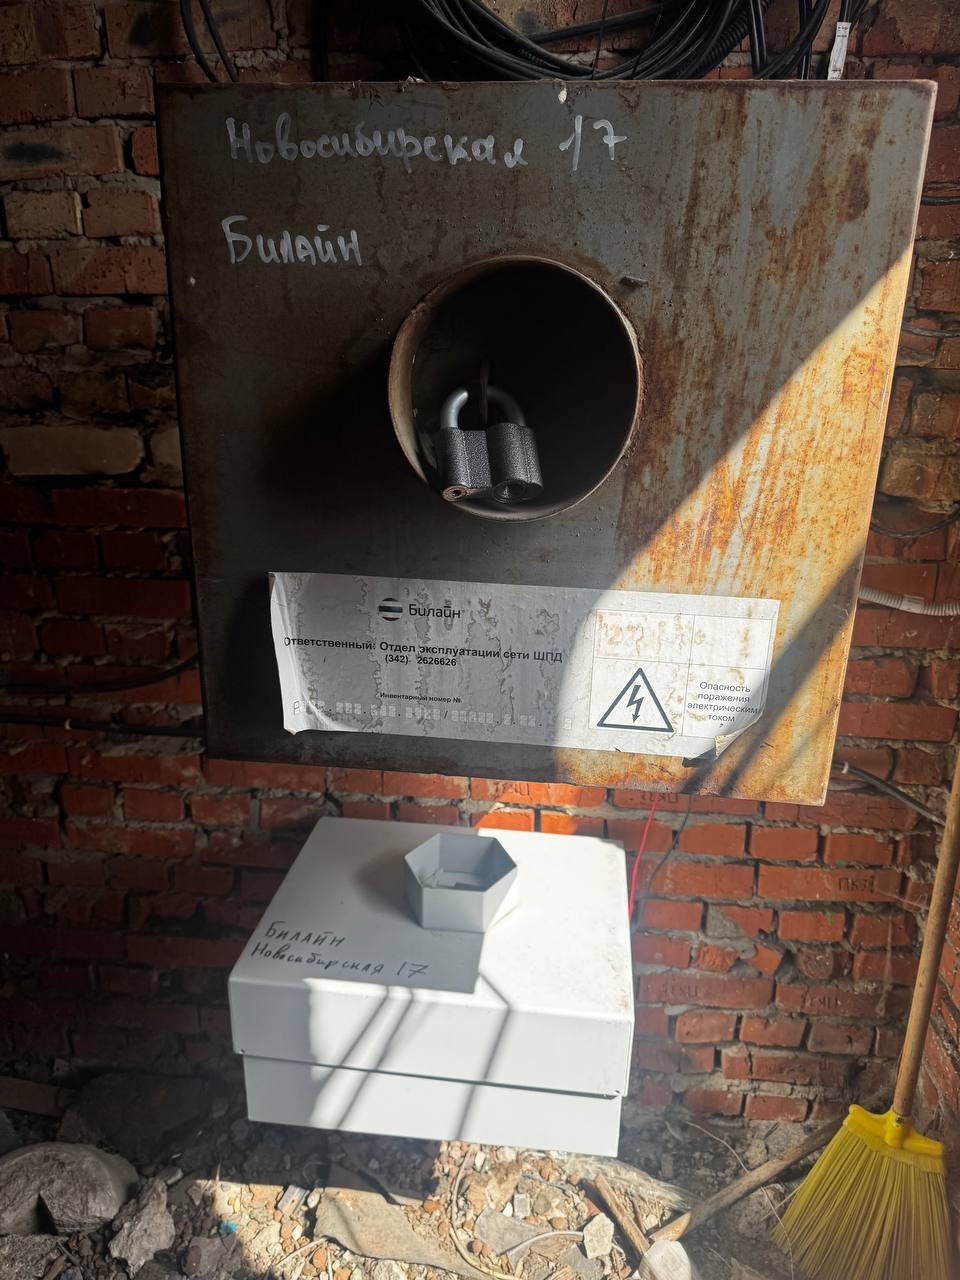shta-9: (139, 59, 943, 817)
shta-ps: (217, 812, 653, 1161)
